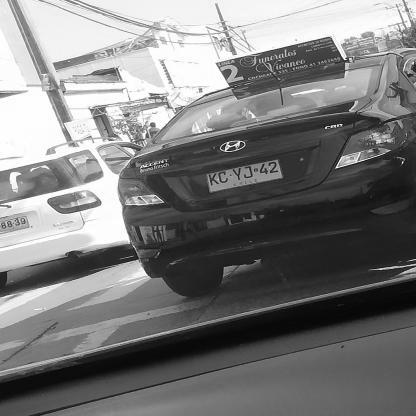Patente: (203, 157, 287, 196)
